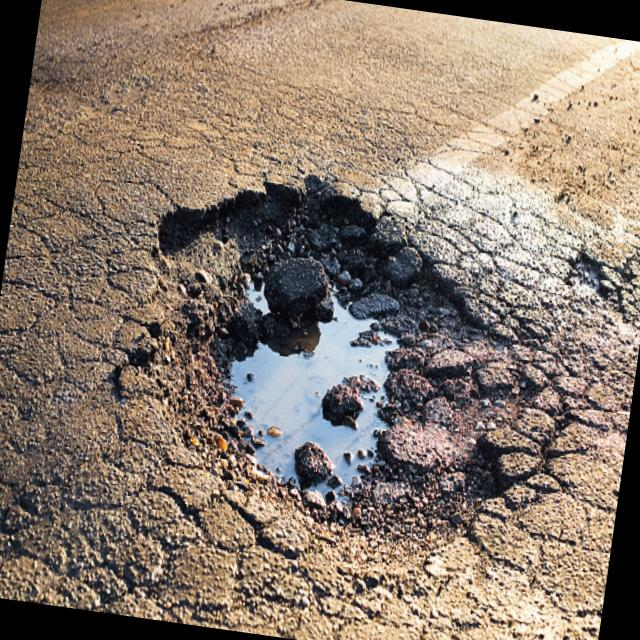Potholes: (109, 110, 604, 586)
